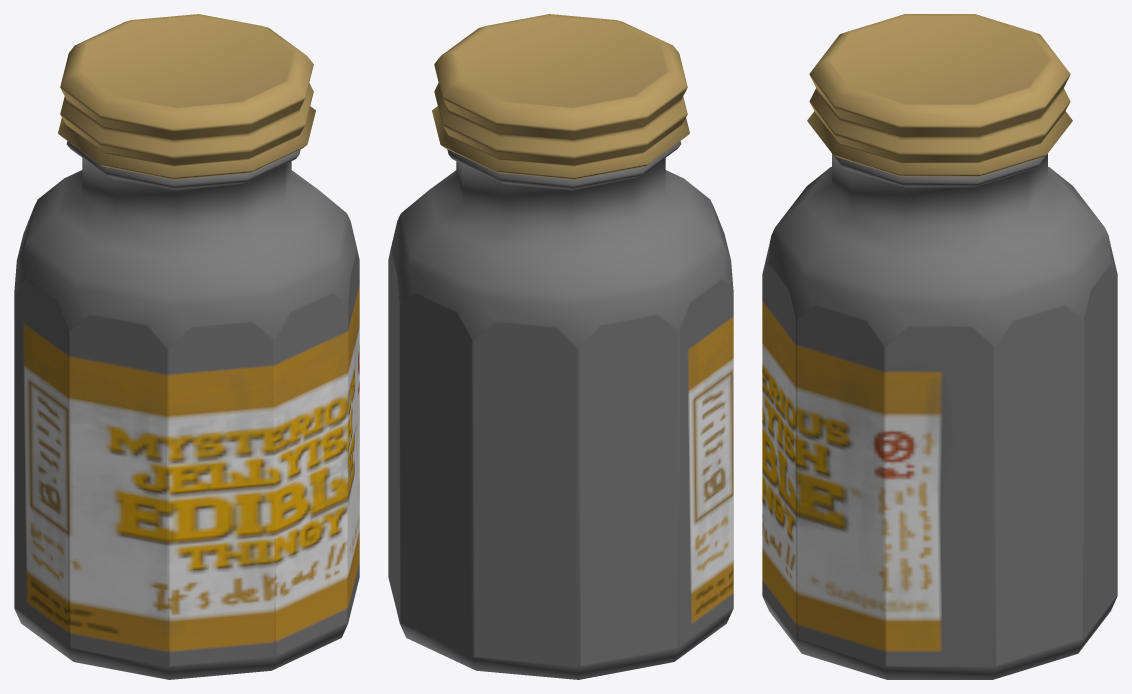
Rendered from BottleFood01.glb.
3 renders of one model, left to right at view 1: azimuth 30°, elevation 25°; view 2: azimuth 150°, elevation 25°; view 3: azimuth 270°, elevation 25°, orthographic.
Visible parts, largest first — view 1: Body; view 2: Body; view 3: Body.
Part boxes in pixels (x1,y1,x2,y2): Body: (14, 14, 359, 679); Body: (388, 14, 733, 679); Body: (762, 14, 1117, 679).
Bounding box in the file's own units: 0.2592 × 0.4669 × 0.2726.
3 materials, 1 textured.
